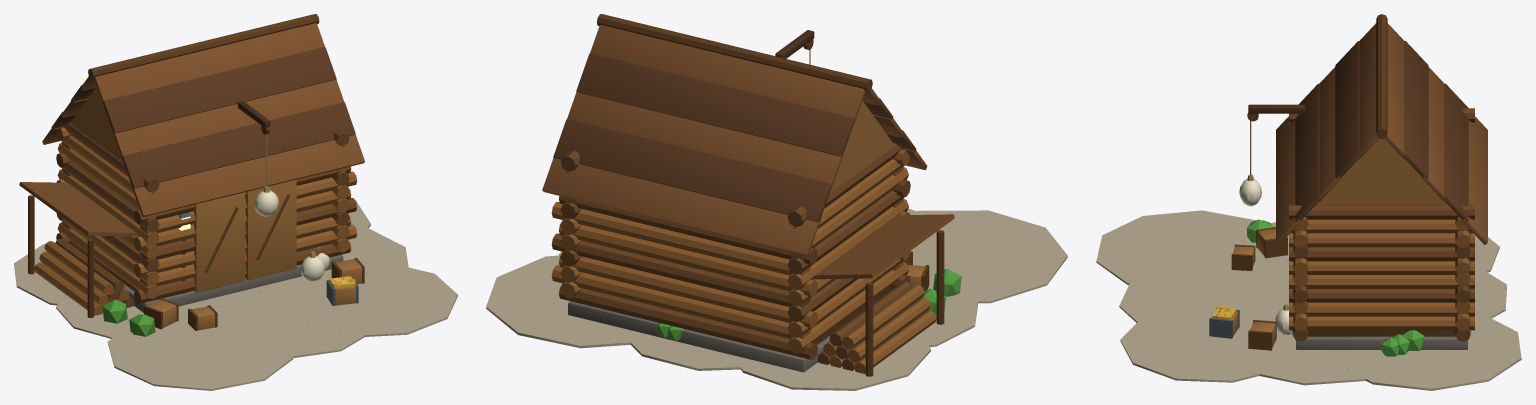
File: magazyn_poz09.glb
3 renders of one model, left to right at view 1: azimuth 30°, elevation 25°; view 2: azimuth 150°, elevation 25°; view 3: azimuth 270°, elevation 25°, orthographic. The views are drawn at different scales.
Visible parts, largest first — view 1: magazyn_poz09; view 2: magazyn_poz09; view 3: magazyn_poz09.
Boxes of the visible parts, x1,y1,x2,y2 form: magazyn_poz09: [14, 14, 457, 390]; magazyn_poz09: [486, 14, 1067, 390]; magazyn_poz09: [1096, 14, 1521, 390].
Size of the model in its own units: 8.86 by 5.43 by 8.91.
